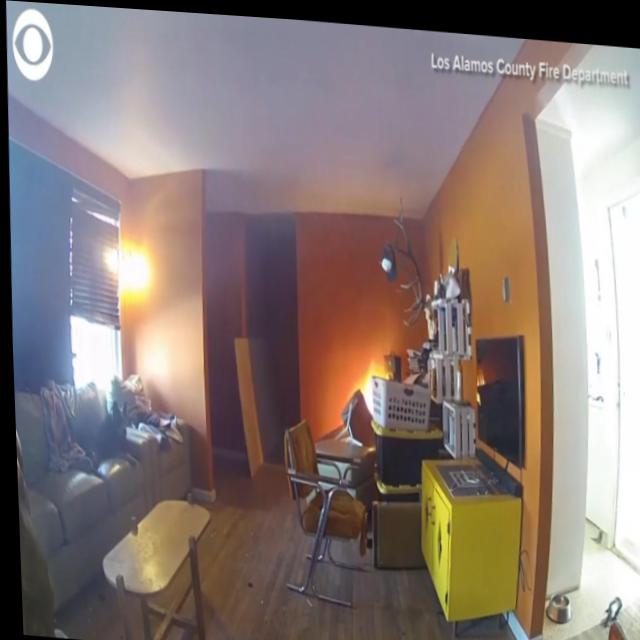fire: (352, 351, 387, 415)
